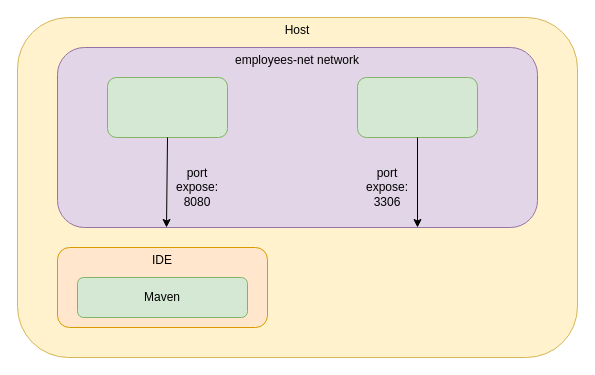
Some shapes in this 595 by 375 pixel diagram are drawn without their labels. Here are the shapes that lost their labels. From the top down, the centre of each, then its label:
At (167,107): "employees container".
At (417,107): "employees-mysql container".
